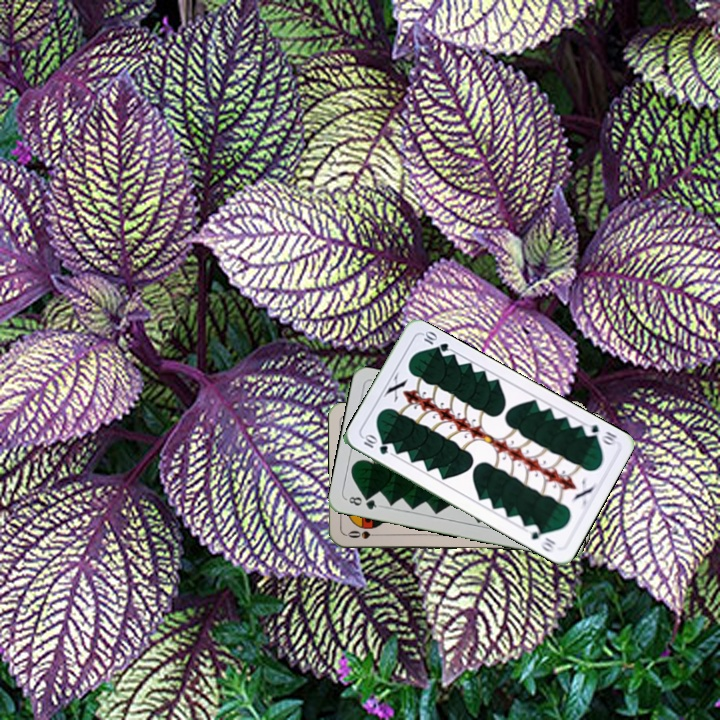G10: (579, 420, 620, 448), (359, 431, 391, 457)
G8: (343, 492, 383, 512)
SO: (344, 526, 384, 541)
